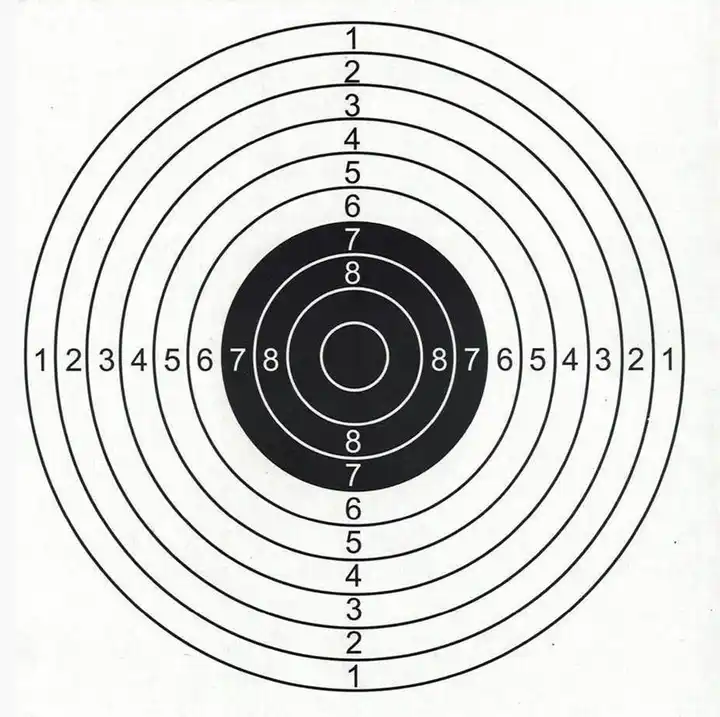target: (18, 12, 707, 698)
